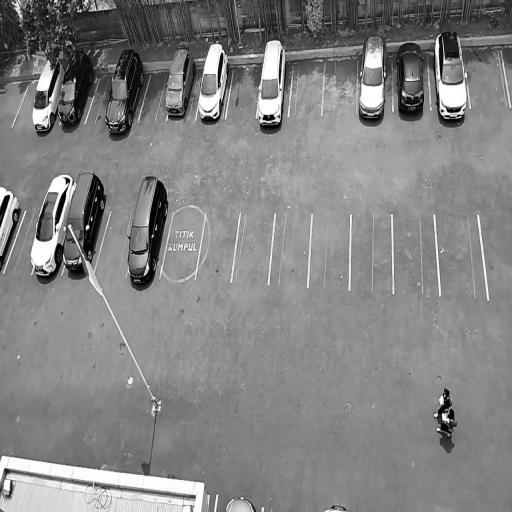Car: (121, 170, 174, 290), (59, 169, 110, 280), (28, 175, 78, 282), (100, 43, 150, 143), (432, 28, 470, 127), (54, 47, 99, 130), (194, 40, 234, 125), (255, 36, 289, 135), (29, 53, 67, 137), (356, 30, 388, 127), (162, 45, 200, 124), (395, 40, 429, 120), (0, 183, 23, 279), (222, 495, 257, 512)
Space Available: (436, 213, 488, 299), (392, 215, 440, 294), (350, 213, 393, 292), (269, 214, 313, 286), (308, 214, 350, 289), (160, 211, 207, 278), (232, 212, 275, 282), (197, 211, 240, 280), (464, 45, 509, 108), (480, 214, 512, 298), (94, 208, 134, 275), (4, 211, 40, 276), (288, 58, 326, 117), (322, 56, 357, 117), (226, 65, 261, 119), (138, 70, 169, 121), (85, 73, 113, 124), (11, 80, 38, 128)
